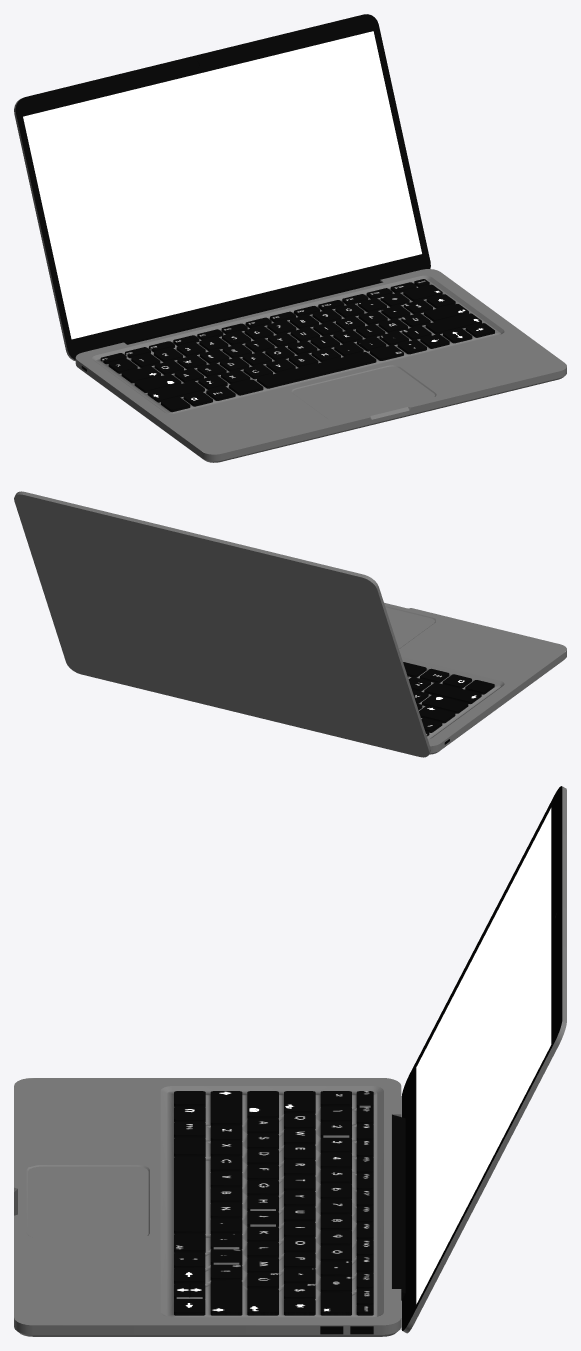
The model's file is laptop.glb.
3 renders of one model, top to bottom at view 1: azimuth 30°, elevation 25°; view 2: azimuth 150°, elevation 25°; view 3: azimuth 270°, elevation 25°, orthographic. The views are drawn at different scales.
Parts seen in each view (by area): view 1: Screen, Frame; view 2: Screen, Frame; view 3: Frame, Screen.
Part boxes in pixels (left/top/right/bottom): Screen: left=14, top=14, right=430, bottom=360; Frame: left=75, top=269, right=566, bottom=462; Screen: left=14, top=491, right=430, bottom=757; Frame: left=384, top=602, right=566, bottom=754; Frame: left=14, top=1078, right=401, bottom=1336; Screen: left=392, top=786, right=566, bottom=1333.
Bounding box in the file's own units: 30.4 × 18.04 × 28.7.
Materials: 2 (2 with a texture image).
